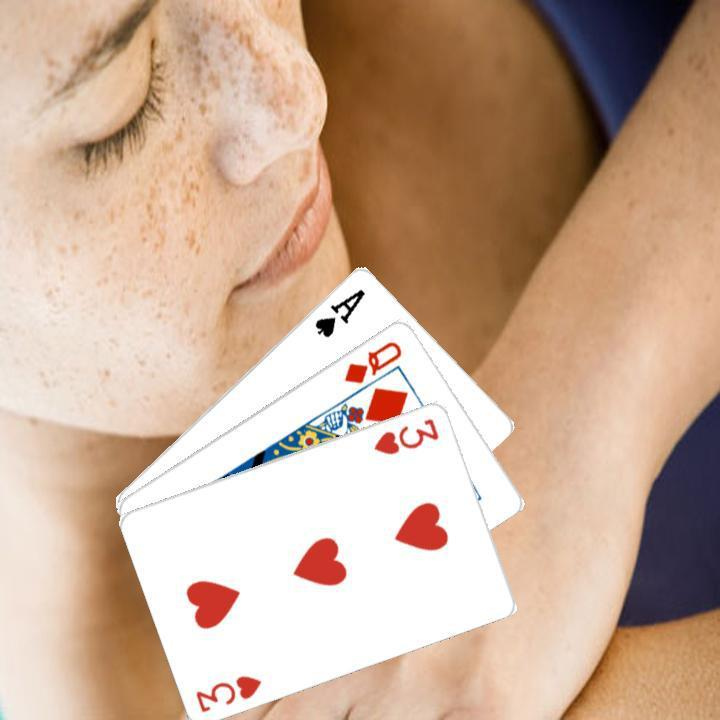3: (191, 670, 264, 714), (369, 413, 442, 456)
A: (310, 284, 367, 339)
Q: (339, 336, 404, 386)
